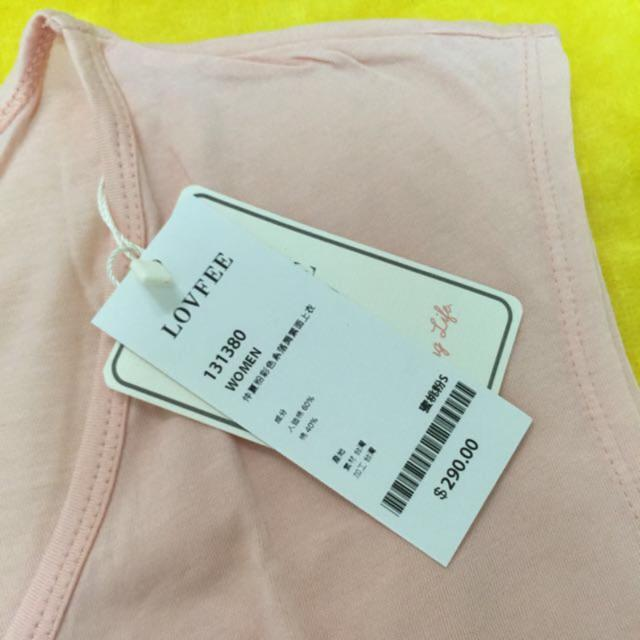Tops: (1, 6, 640, 633)
